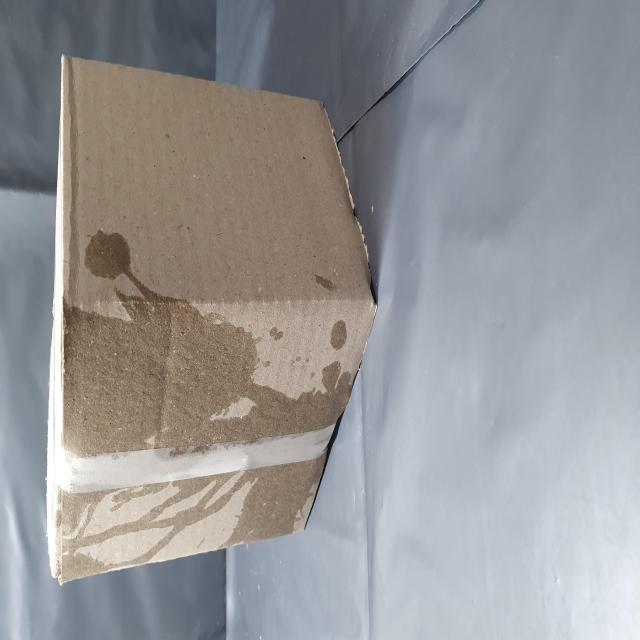wet: (109, 93, 241, 640), (24, 90, 96, 568)
